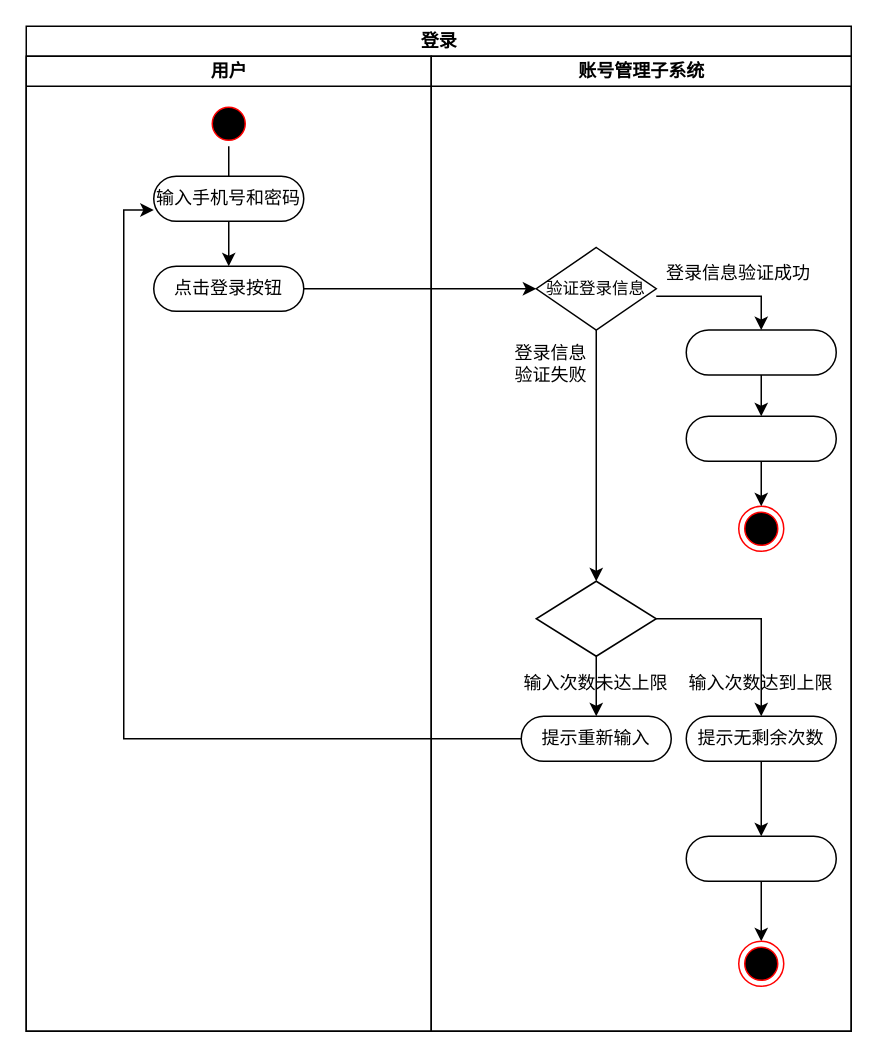
The diagram is 878 pixels wide and 1058 high, and some of its shapes have lost their labels. The centre of each missing label's shape, as x and y in pixels:
存储登录时间: point (760, 351)
成功登录提示: point (760, 438)
跳转到密码找回 界面: point (760, 858)
输入次数剩余: point (595, 618)
